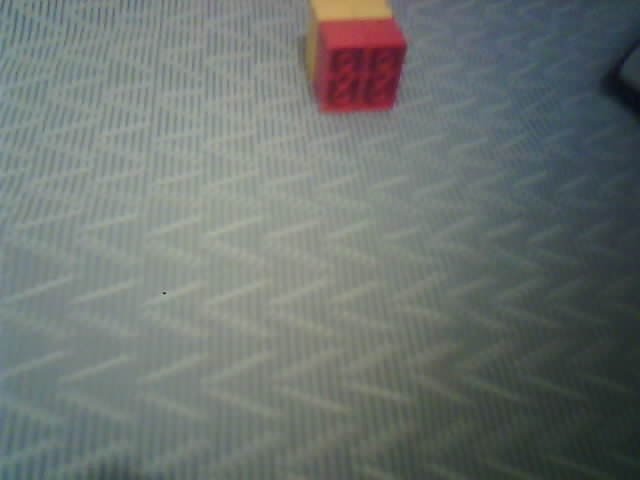lego: (303, 1, 408, 114)
